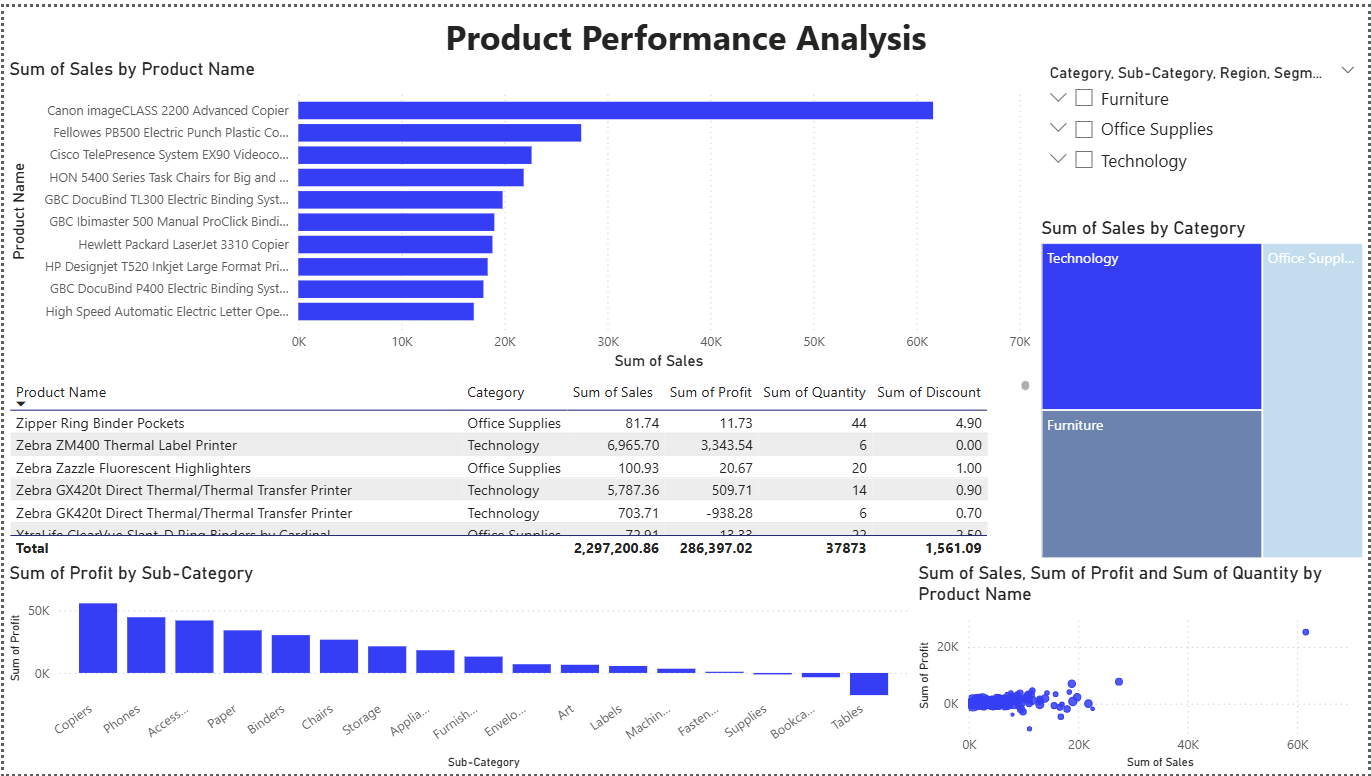

What the dashboard file says about the page in this screenshot:
{"tool":"powerbi","page":{"name":"Product Performance","canvas":[1280,720],"ordinal":1},"visuals":[{"type":"textbox","box":[0,0,1280.6,95.8],"z":0},{"type":"clusteredBarChart","fields":{"Category":["Sample - Superstore.Product Name"],"Y":["Sum(Sample - Superstore.Sales)"]},"box":[0,48.3,968.3,296.7],"z":1000},{"type":"columnChart","fields":{"Category":["Sample - Superstore.Sub-Category"],"Y":["Sum(Sample - Superstore.Profit)"]},"box":[0,521.7,853.3,198.3],"z":2000},{"type":"treemap","fields":{"Group":["Sample - Superstore.Category"],"Values":["Sum(Sample - Superstore.Sales)"]},"box":[968.3,196.7,311.7,325],"z":3000},{"type":"tableEx","fields":{"Values":["Sample - Superstore.Product Name","Sample - Superstore.Category","Sum(Sample - Superstore.Sales)","Sum(Sample - Superstore.Profit)","Sum(Sample - Superstore.Quantity)","Sum(Sample - Superstore.Discount)"]},"box":[0,345,968.3,176.7],"z":4000},{"type":"scatterChart","fields":{"X":["Sum(Sample - Superstore.Sales)"],"Y":["Sum(Sample - Superstore.Profit)"],"Category":["Sample - Superstore.Product Name"],"Size":["Sum(Sample - Superstore.Quantity)"]},"box":[853.3,521.7,426.7,198.3],"z":5000},{"type":"slicer","fields":{"Values":["Sample - Superstore.Category","Sample - Superstore.Sub-Category","Sample - Superstore.Region","Sample - Superstore.Segment"]},"box":[968.3,48.3,311.7,148.3],"z":6000}]}

Visuals, with their boxes in screenshot pixels (x1, y1, x2, y2), scaled from the page's 1280x720 canvas onto the 1371x776 screenshot:
textbox: [0,0,1370,103]
clusteredBarChart - Sample - Superstore.Product Name x Sum(Sample - Superstore.Sales): [0,52,1037,372]
columnChart - Sample - Superstore.Sub-Category x Sum(Sample - Superstore.Profit): [0,562,914,775]
treemap - Sample - Superstore.Category x Sum(Sample - Superstore.Sales): [1037,212,1370,562]
tableEx - Sample - Superstore.Product Name x Sample - Superstore.Category: [0,372,1037,562]
scatterChart - Sum(Sample - Superstore.Sales) x Sum(Sample - Superstore.Profit): [914,562,1370,775]
slicer - Sample - Superstore.Category x Sample - Superstore.Sub-Category: [1037,52,1370,212]
